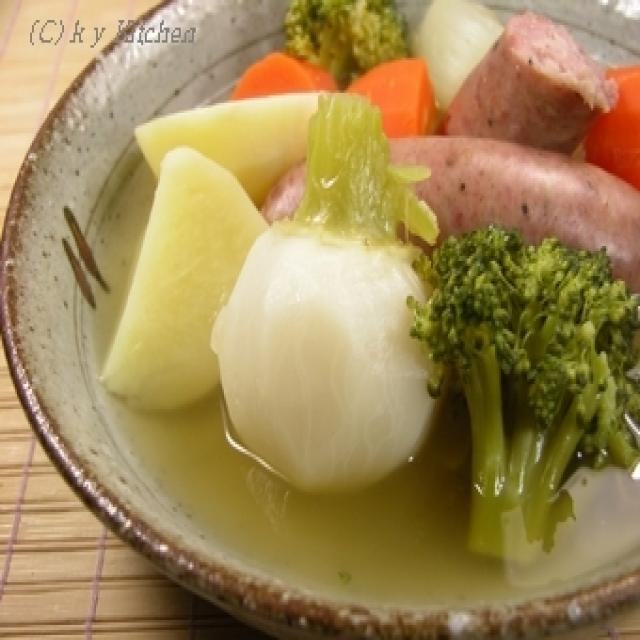汤锅炖物: (21, 12, 627, 615)
